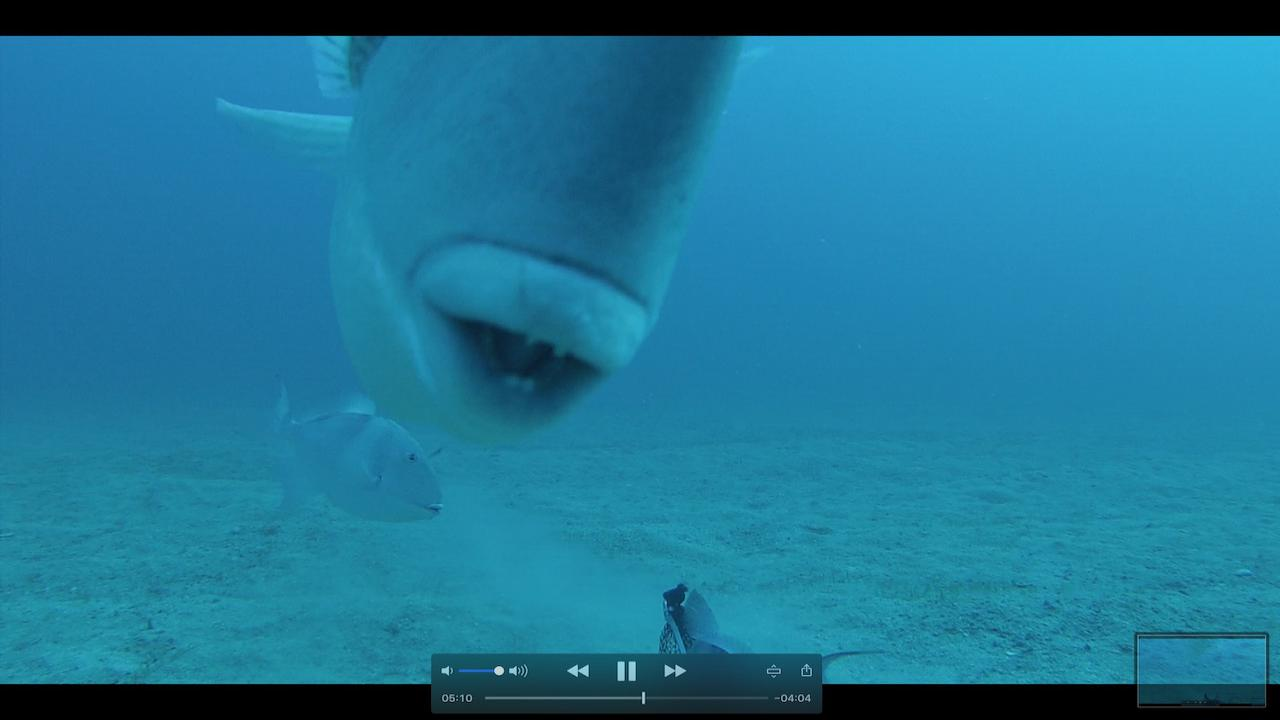balistes: (209, 34, 776, 447), (246, 371, 448, 527)
